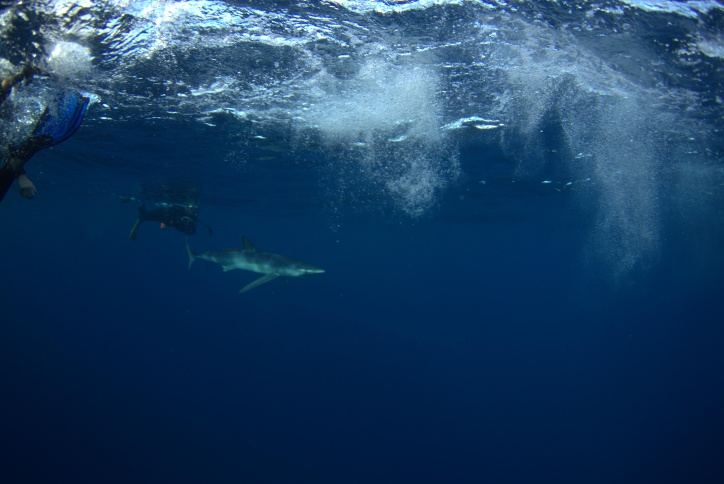Azul: (167, 220, 339, 307)
